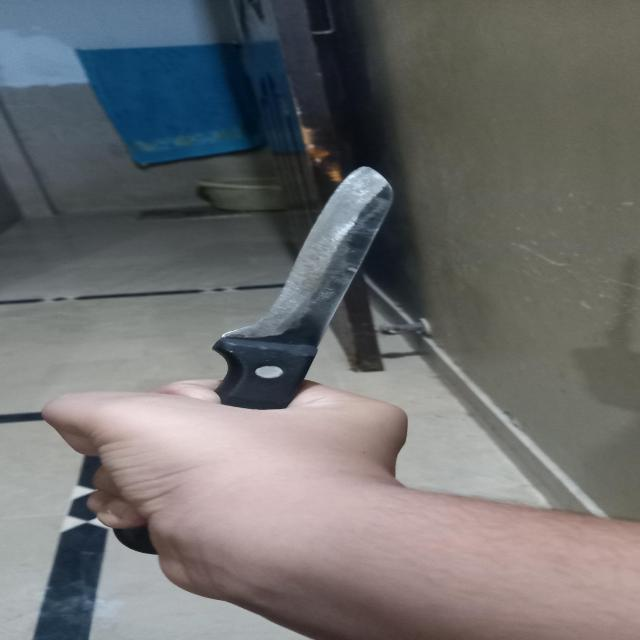Knife: (214, 166, 400, 412)
Person: (38, 376, 640, 640)
